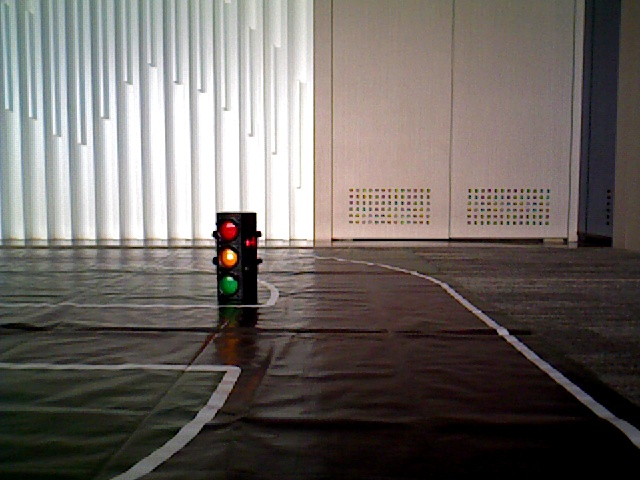yellow: (216, 216, 240, 298)
